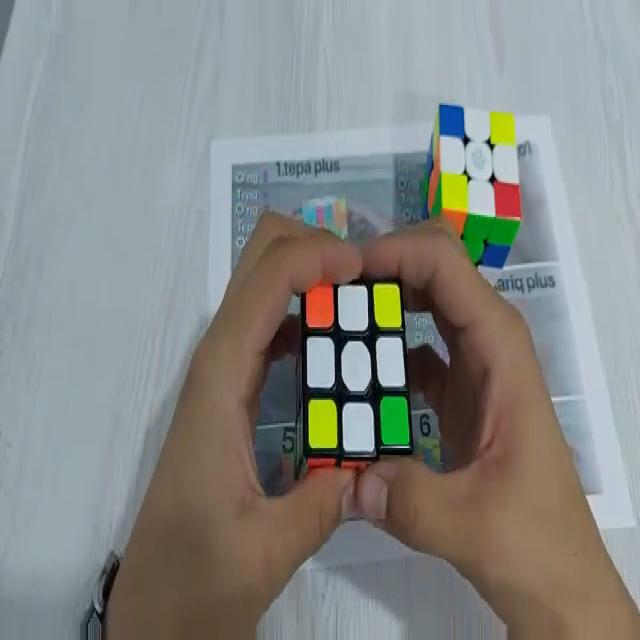Rub: (296, 274, 414, 473), (422, 100, 522, 290)
